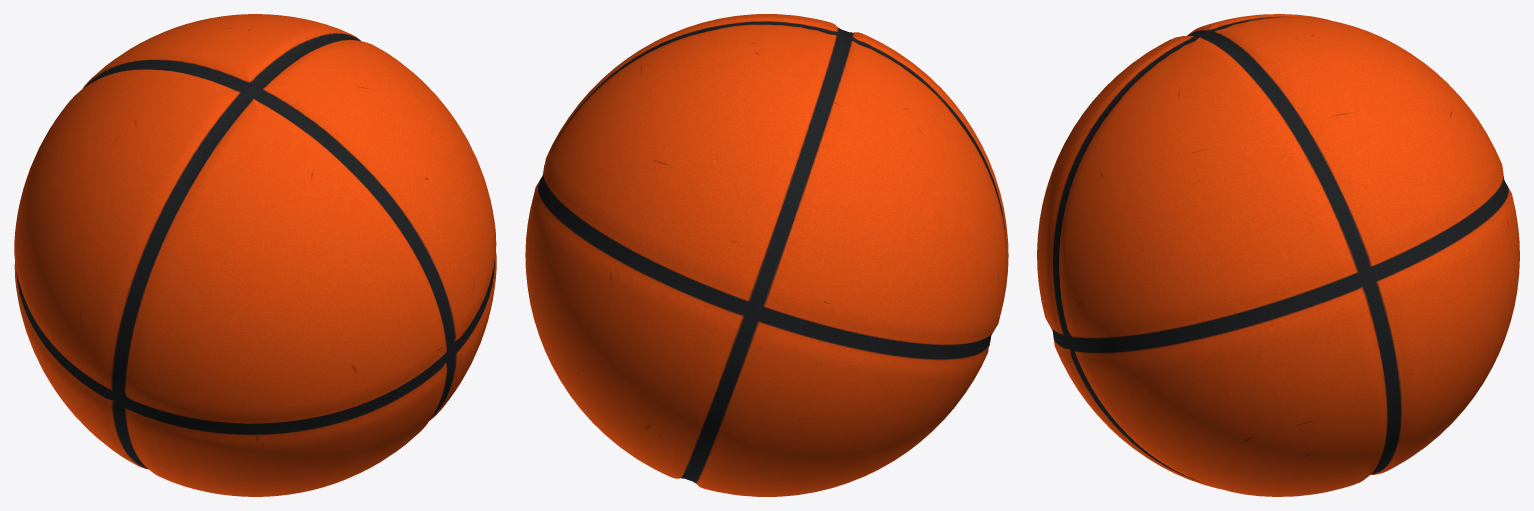
The model's file is rubber-rookie.fbx.
The picture shows the model from 3 angles, left to right: view 1: azimuth 30°, elevation 25°; view 2: azimuth 150°, elevation 25°; view 3: azimuth 270°, elevation 25°; orthographic projection.
Parts seen in each view (by area): view 1: Ball_01_RubberRookie; view 2: Ball_01_RubberRookie; view 3: Ball_01_RubberRookie.
Part boxes in pixels (left/top/right/bottom): Ball_01_RubberRookie: left=14, top=14, right=496, bottom=496; Ball_01_RubberRookie: left=525, top=14, right=1008, bottom=496; Ball_01_RubberRookie: left=1037, top=14, right=1519, bottom=496.
Bounding box in the file's own units: 240 × 240 × 240.
1 material, 1 textured.
